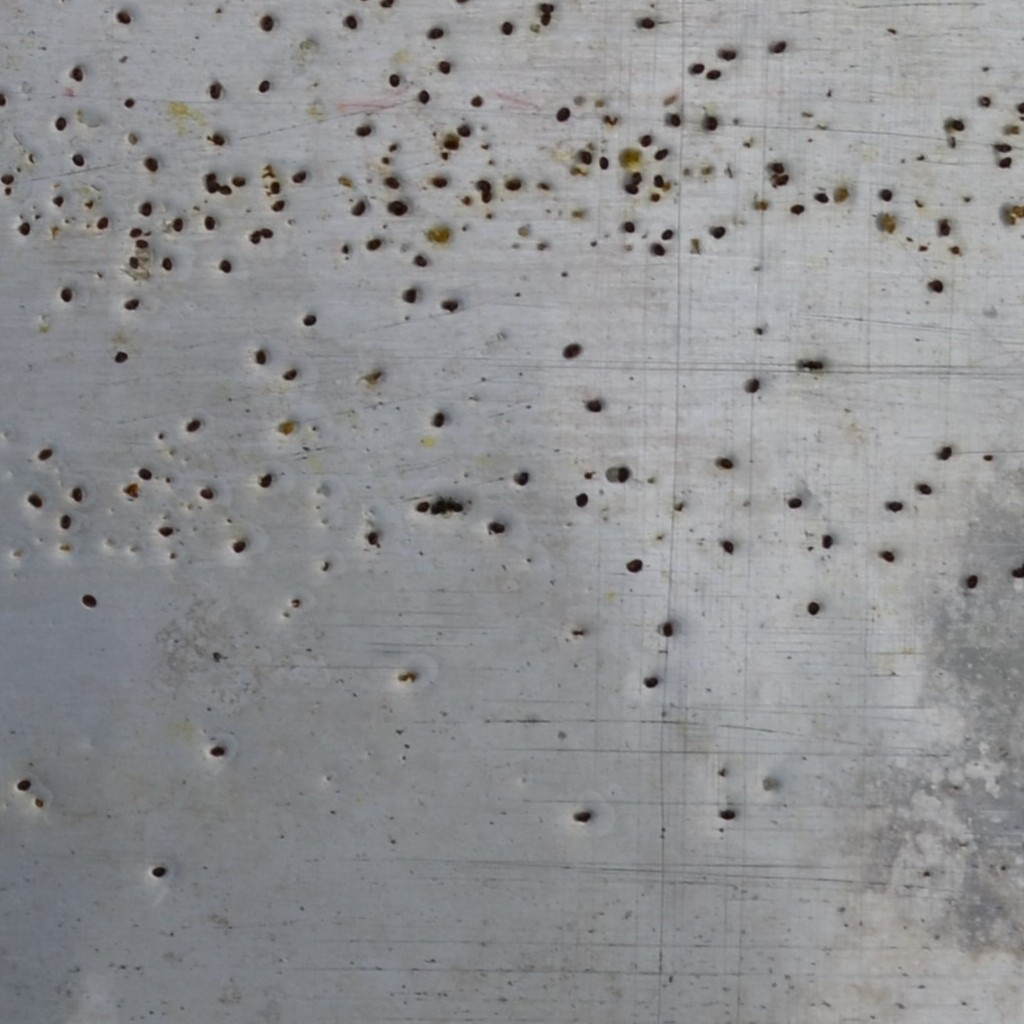varroa: (386, 197, 410, 219), (429, 405, 447, 434), (625, 551, 646, 575), (511, 465, 532, 489), (571, 805, 593, 826), (113, 343, 130, 370), (745, 370, 762, 397), (562, 337, 581, 361), (206, 739, 230, 757), (150, 860, 171, 880), (964, 570, 983, 591), (94, 212, 112, 234), (929, 273, 945, 297), (349, 196, 368, 216), (364, 235, 383, 255), (26, 487, 44, 508), (81, 587, 98, 609), (555, 103, 572, 125), (137, 461, 153, 484), (883, 498, 906, 514), (114, 7, 133, 26), (768, 36, 787, 55), (718, 454, 737, 473), (59, 282, 74, 306), (914, 478, 934, 496), (401, 283, 419, 303), (183, 413, 201, 433), (936, 443, 953, 464), (813, 186, 829, 208), (58, 509, 72, 534), (423, 25, 446, 40), (281, 364, 300, 382), (258, 469, 276, 488), (36, 444, 53, 464), (997, 153, 1017, 170), (787, 494, 804, 514), (504, 176, 524, 193), (230, 534, 247, 554), (470, 91, 486, 112), (487, 519, 509, 534), (69, 64, 86, 83), (413, 249, 430, 268), (718, 47, 741, 61), (249, 224, 263, 247), (17, 220, 33, 240), (70, 150, 86, 170), (291, 166, 307, 186), (770, 173, 791, 188), (354, 122, 375, 137), (617, 462, 631, 484), (142, 152, 159, 170), (702, 114, 719, 132), (769, 157, 787, 174), (444, 136, 462, 153), (642, 674, 660, 691), (585, 398, 603, 415), (301, 310, 318, 328), (123, 294, 140, 312), (70, 483, 85, 503), (253, 345, 268, 365), (388, 68, 402, 89), (575, 488, 589, 509), (475, 172, 492, 189), (157, 522, 174, 539), (15, 775, 33, 791), (881, 546, 897, 564), (789, 202, 805, 220), (210, 129, 226, 147), (651, 169, 666, 188), (622, 179, 641, 194), (578, 147, 593, 166), (414, 497, 429, 516), (993, 140, 1013, 154), (717, 807, 737, 821), (439, 296, 459, 310), (448, 495, 461, 516), (654, 145, 670, 162), (54, 114, 69, 132), (218, 257, 233, 275), (199, 484, 214, 502), (208, 81, 222, 100), (662, 621, 675, 641), (431, 175, 451, 188), (52, 192, 68, 208), (950, 116, 966, 132), (710, 223, 726, 239), (501, 20, 517, 36), (0, 169, 15, 186), (938, 218, 953, 235), (668, 112, 683, 129), (650, 240, 667, 255), (383, 174, 401, 188), (261, 223, 274, 242), (203, 213, 216, 232), (690, 60, 706, 75), (639, 132, 654, 148), (628, 168, 644, 183), (231, 174, 246, 190), (260, 14, 274, 31), (808, 600, 822, 617), (418, 87, 431, 105), (821, 530, 834, 548), (1012, 559, 1023, 580), (707, 67, 722, 82), (437, 57, 452, 72), (270, 197, 287, 210), (161, 254, 173, 272), (345, 14, 359, 29), (881, 186, 894, 202), (267, 179, 280, 195), (128, 253, 141, 269), (639, 16, 656, 28), (722, 538, 734, 555), (171, 215, 183, 232), (599, 154, 610, 172), (978, 95, 993, 108), (661, 226, 674, 241), (481, 188, 493, 204), (204, 167, 216, 183), (206, 183, 222, 195), (140, 200, 152, 216), (623, 218, 636, 232), (135, 237, 149, 250), (219, 184, 234, 196), (124, 93, 135, 109), (433, 498, 444, 514), (458, 123, 471, 136), (541, 1, 555, 13), (367, 530, 379, 543), (129, 225, 142, 237), (650, 189, 661, 203), (541, 13, 552, 27), (259, 79, 270, 93), (0, 89, 6, 108), (379, 0, 395, 7), (1017, 100, 1023, 116)
